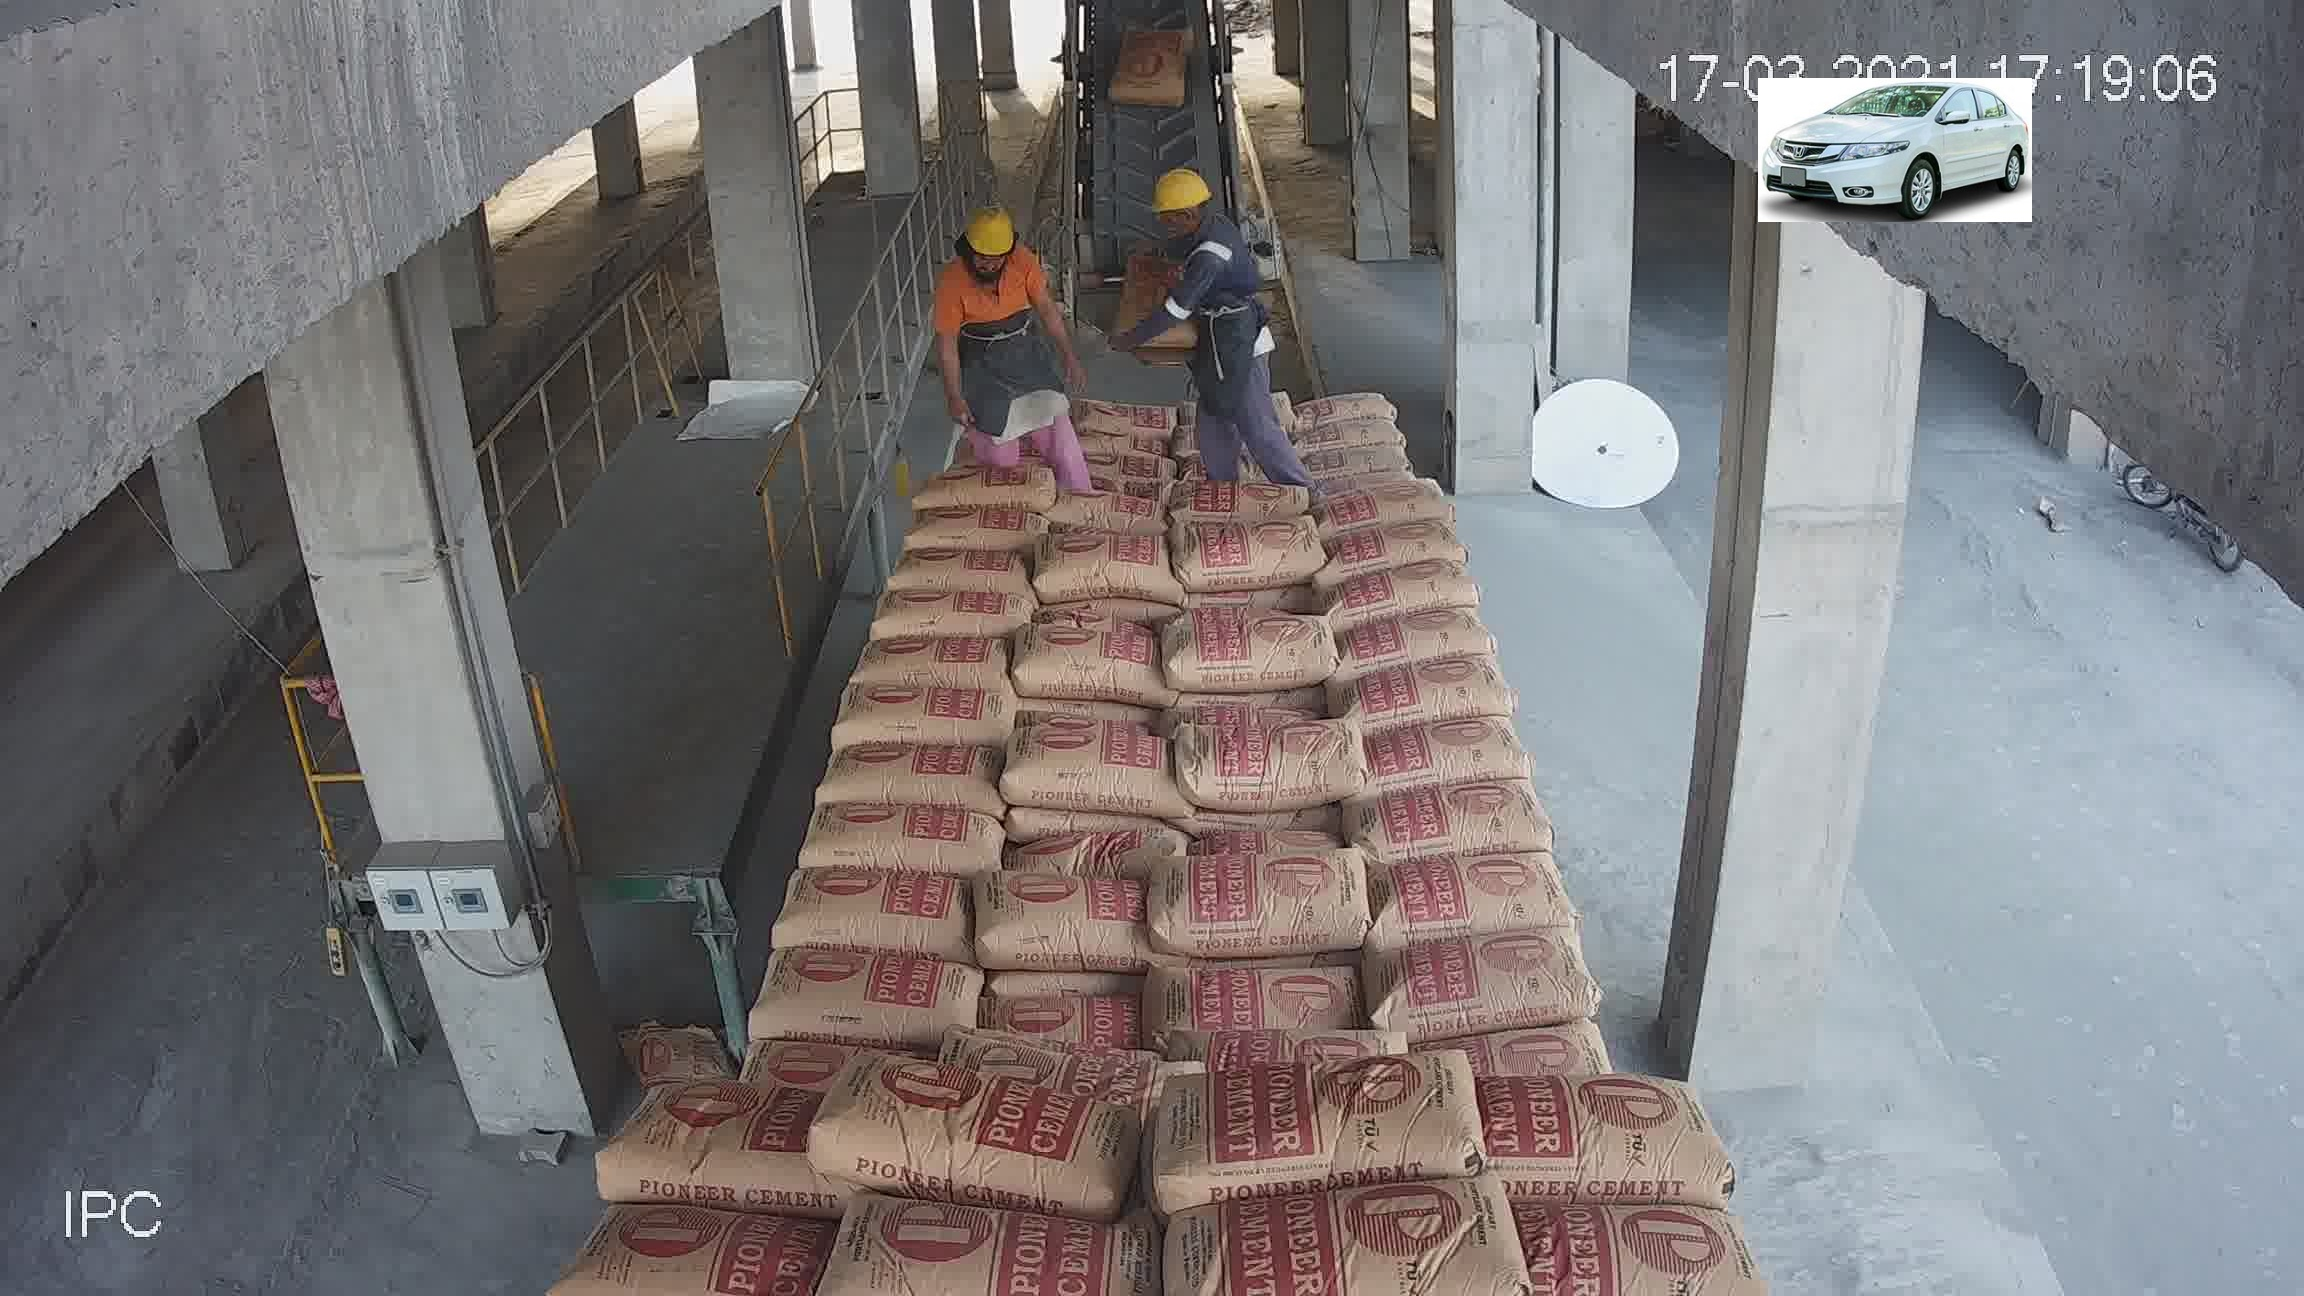bag: (1109, 36, 1193, 109)
bag_h: (1157, 1048, 1473, 1203), (1180, 1150, 1510, 1291), (807, 1059, 1149, 1190), (1476, 1071, 1733, 1195), (1386, 923, 1608, 1049), (601, 1067, 796, 1206), (850, 1211, 1157, 1296), (744, 940, 973, 1051), (1133, 853, 1385, 948), (554, 1203, 801, 1287), (1521, 1199, 1771, 1280), (967, 875, 1158, 978), (1378, 853, 1581, 946), (761, 862, 951, 959), (1130, 953, 1366, 1025), (1195, 718, 1372, 815), (1011, 715, 1176, 815), (1374, 785, 1549, 878), (1366, 711, 1549, 794), (836, 669, 1019, 748), (1163, 616, 1340, 696), (802, 801, 1005, 870), (1173, 514, 1321, 601), (1008, 628, 1161, 712), (1337, 601, 1502, 679), (1355, 658, 1510, 741), (935, 1036, 1166, 1089), (1342, 549, 1506, 619), (1476, 1003, 1612, 1086), (866, 574, 1036, 638), (1324, 519, 1468, 593), (820, 739, 995, 799), (850, 623, 1019, 684), (989, 987, 1146, 1049), (1035, 538, 1165, 608), (1309, 473, 1453, 533), (1043, 817, 1184, 877), (904, 502, 1060, 555), (1190, 1019, 1415, 1055), (1166, 476, 1317, 529), (880, 540, 1021, 593), (916, 460, 1051, 506), (1057, 495, 1176, 544), (1063, 392, 1192, 437), (1285, 383, 1399, 432), (1304, 438, 1429, 483), (1288, 418, 1416, 457), (1063, 456, 1180, 495), (1067, 419, 1166, 460)
belt: (1051, 5, 1249, 323)
